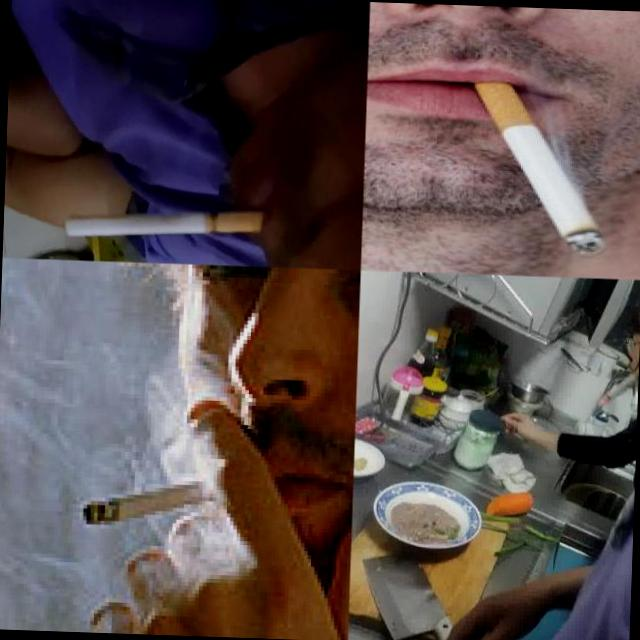cigarette: (466, 77, 612, 258), (63, 202, 265, 247), (81, 468, 220, 530), (597, 351, 639, 408)
